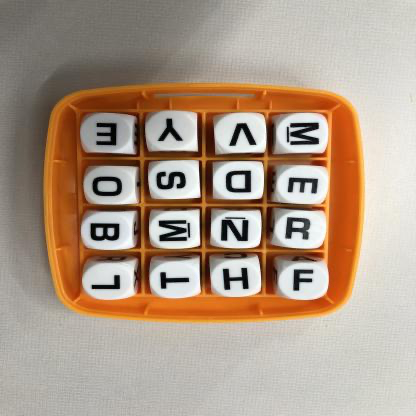b: (84, 214, 133, 249)
d: (214, 164, 264, 200)
e: (81, 116, 137, 152), (275, 167, 327, 203)
f: (280, 262, 330, 298)
h: (212, 261, 262, 296)
l: (86, 265, 134, 299)
m: (275, 117, 328, 155), (149, 212, 200, 247)
n: (213, 211, 263, 248)
o: (85, 169, 137, 204)
r: (275, 211, 327, 246)
s: (150, 162, 202, 200)
t: (150, 263, 202, 299)
v: (214, 115, 267, 153)
y: (146, 114, 198, 151)
